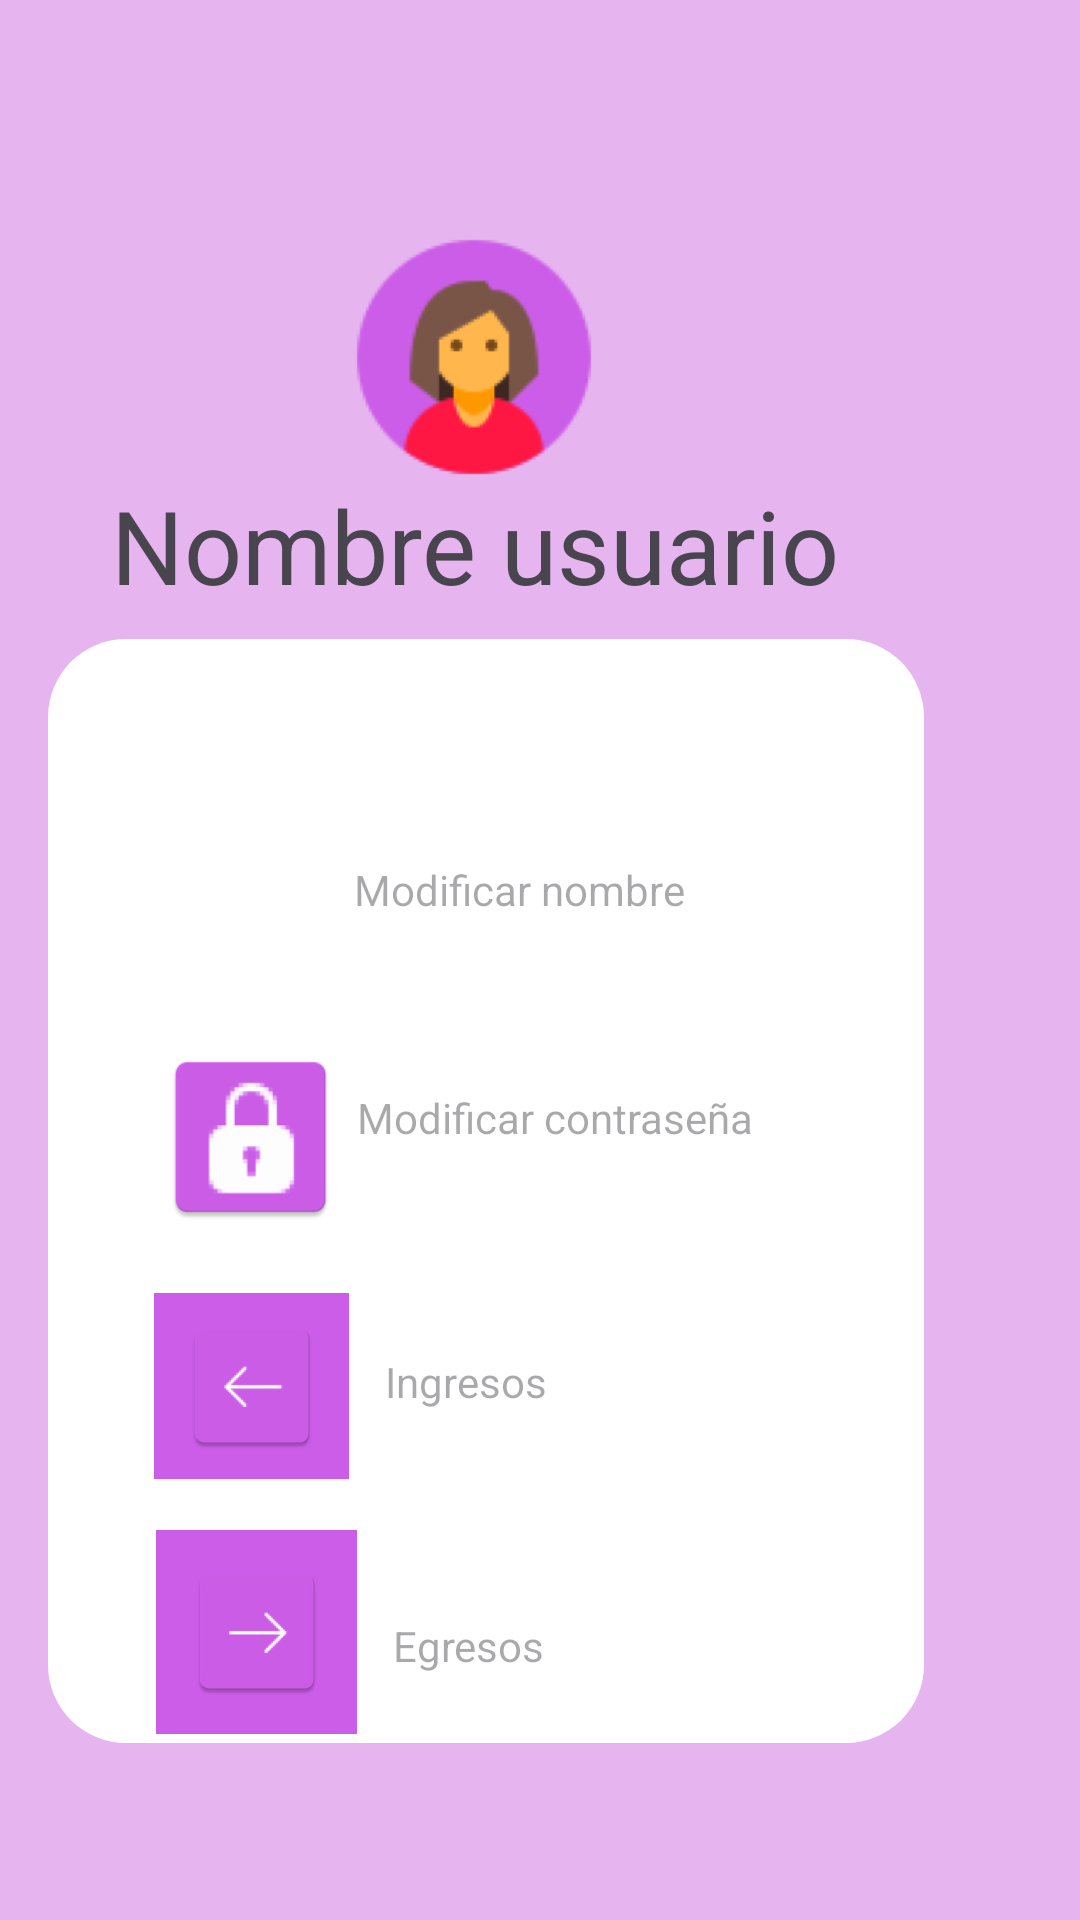

Icons on this 1080px x 1920px Android screen, each with its box as [x1=x1, y1=y1, x2=x2, y2=y2]:
candadito: [x1=174, y1=1062, x2=327, y2=1217]
